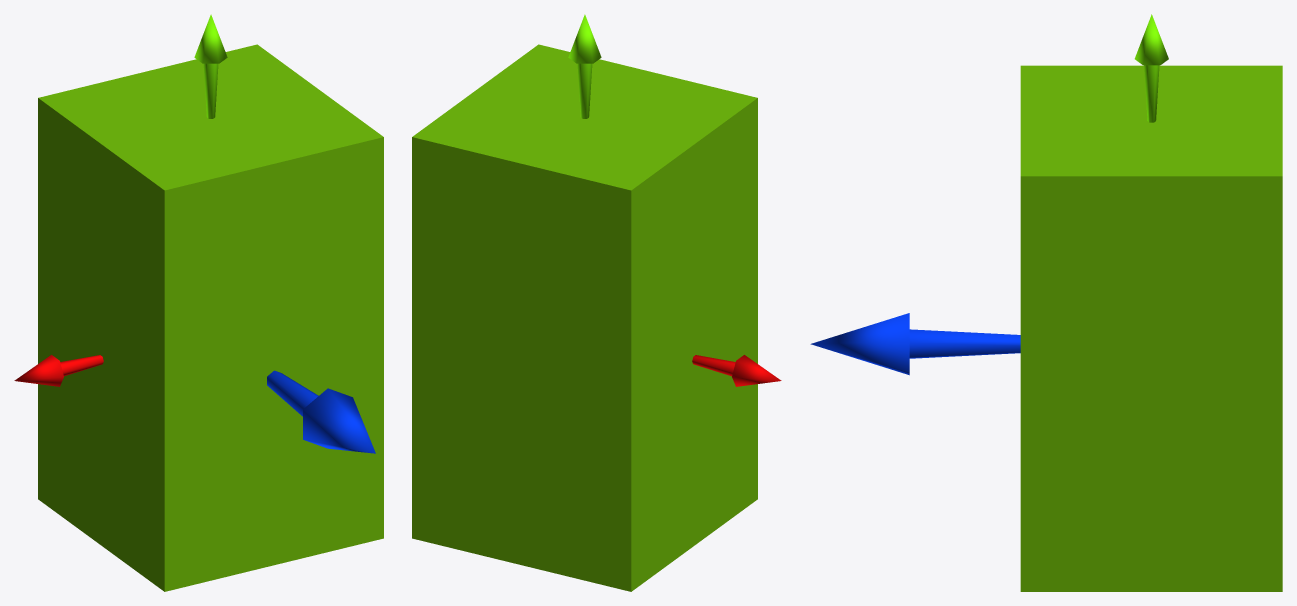
3 renders of one model, left to right at view 1: azimuth 30°, elevation 25°; view 2: azimuth 150°, elevation 25°; view 3: azimuth 270°, elevation 25°, orthographic. The views are drawn at different scales.
Parts seen in each view (by area): view 1: player; view 2: player; view 3: player.
Boxes of the visible parts, x1,y1,x2,y2 form: player: (14, 14, 383, 591); player: (412, 14, 781, 591); player: (810, 14, 1282, 591).
Bounding box in the file's own units: 1.4 × 2.2 × 1.8.
1 material, 1 textured.
